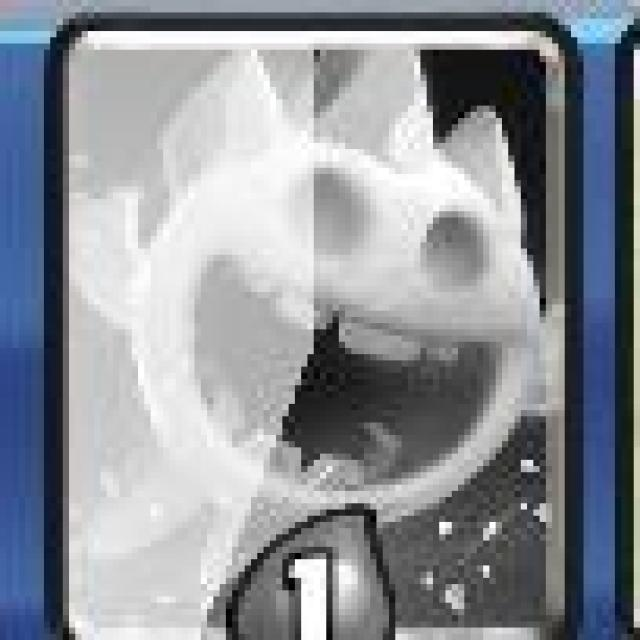Ice_Spirit: (48, 23, 571, 637)
